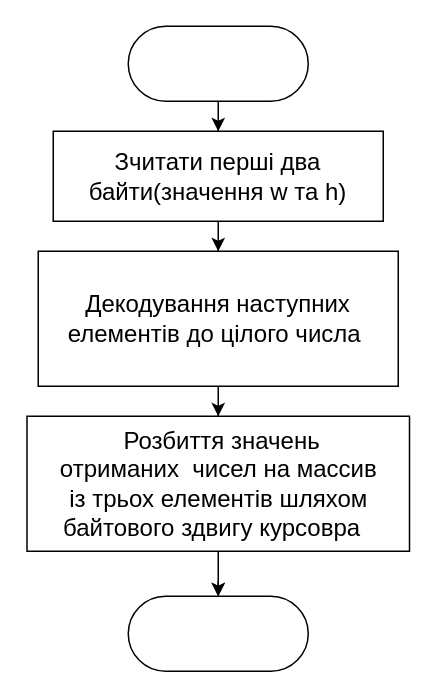
The diagram is 435 pixels wide and 698 high, and some of its shapes have lost their labels. Here are the shapes that lost their labels. From the top down, the centre of each, then its label:
the point at 217,63: Початок
the point at 217,633: Кінець
